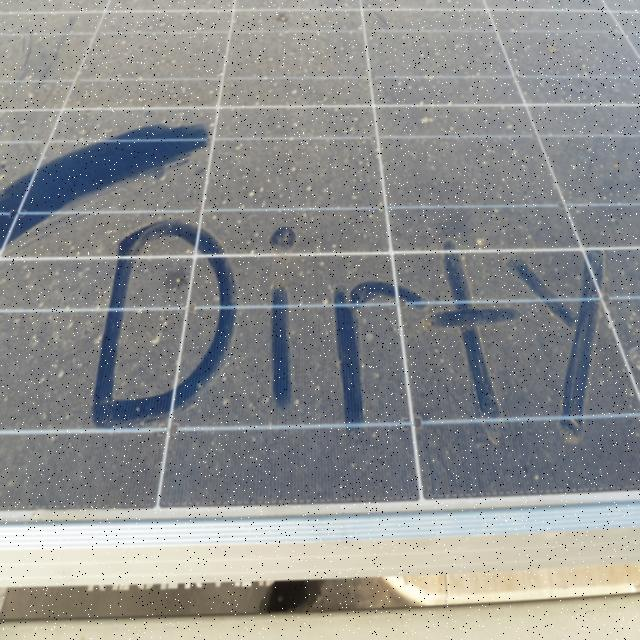dusty: (207, 4, 635, 213)
